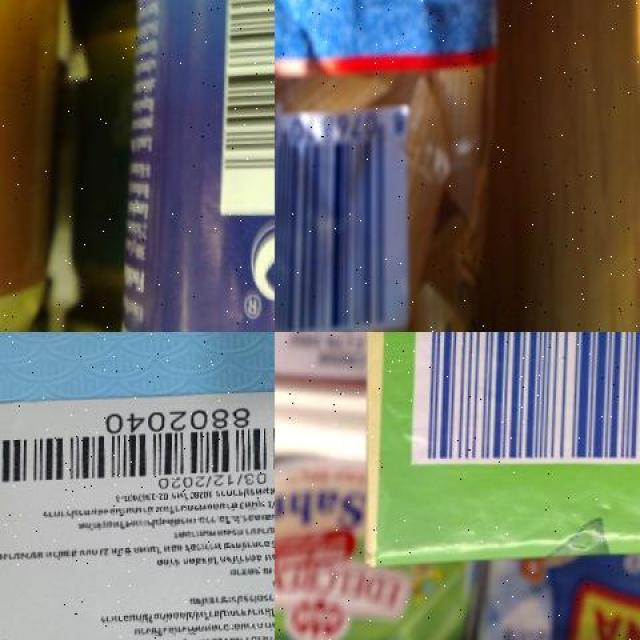Barcode: (412, 332, 640, 473), (274, 108, 414, 332), (0, 402, 275, 489), (221, 0, 275, 220)
